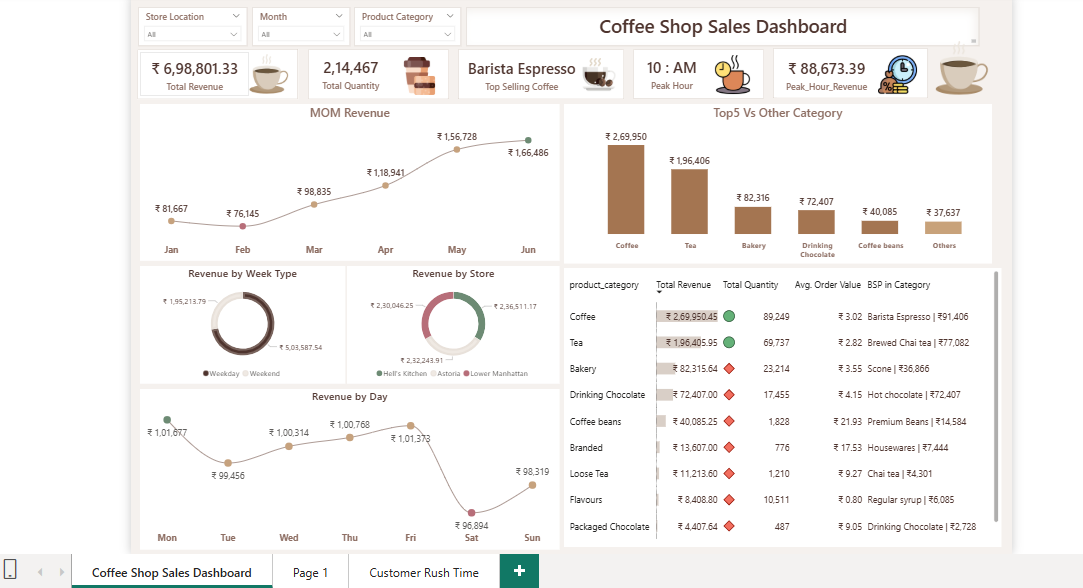

Layout of this report page (visuals, bound fields, positions):
{"tool":"powerbi","page":{"name":"Coffee Shop Sales Dashboard","canvas":[1580,1000],"ordinal":0},"visuals":[{"type":"shape","box":[585.9,94.9,297.4,90],"z":4000},{"type":"shape","box":[899.9,94.9,234.3,89.7],"z":5000},{"type":"shape","box":[11.6,94.5,288.6,90],"z":6000},{"type":"card","fields":{"Values":["Measure_Table.Total Revenue"]},"box":[16,99.9,196.1,80],"z":7000},{"type":"shape","box":[316.4,94.5,252.3,90],"z":8000},{"type":"image","box":[212.1,103.3,71.4,71.4],"z":9000},{"type":"card","fields":{"Values":["Measure_Table.Total Quantity"]},"box":[318.4,96.6,149.5,84.7],"z":10000},{"type":"image","box":[481.2,109.9,69.8,68.1],"z":11000},{"type":"card","fields":{"Values":["Measure_Table.Top Selling Coffee"]},"box":[590.9,99.9,217.7,81.4],"z":12000},{"type":"image","box":[808.5,111.4,59.8,59.8],"z":13000},{"type":"card","fields":{"Values":["Measure_Table.Peak Hour"]},"box":[909.9,98.3,118,81.4],"z":14000},{"type":"image","box":[1042.8,105.4,69.8,69.8],"z":15000},{"type":"shape","box":[1150,94,278,90],"z":16000},{"type":"card","fields":{"Values":["Measure_Table.Peak_Hour_Revenue"]},"box":[1157.4,98.3,177.8,83],"z":17000},{"type":"image","box":[1338.5,104.9,69.8,69.8],"z":18000},{"type":"columnChart","title":"Top5 Vs Other Category","fields":{"Category":["dim_Product_Category.Top5_Vs_Others"],"Y":["Measure_Table.Total Revenue"]},"box":[776,194,767,286],"z":20000},{"type":"lineChart","title":"MOM Revenue","fields":{"Category":["dim_Date.Month Name"],"Y":["Measure_Table.Total Revenue"]},"box":[16,194,752,281.4],"z":21000},{"type":"pieChart","title":"Revenue by Week Type","fields":{"Category":["dim_Date.Weektype"],"Y":["Measure_Table.Total Revenue"]},"box":[16,483,368,211],"z":22000},{"type":"lineChart","title":"Revenue by Day","fields":{"Y":["Measure_Table.Total Revenue"],"Category":["dim_Date.Day Name"]},"box":[16,704,752,288],"z":23000},{"type":"slicer","fields":{"Values":["dim_Store_Location.@Store Name"]},"box":[12.9,20.3,195.7,70],"z":24000},{"type":"pieChart","title":"Revenue by Store","fields":{"Category":["dim_Store_Location.@Store Name"],"Y":["Measure_Table.Total Revenue"]},"box":[387.1,483,381.4,211],"z":25000},{"type":"pivotTable","fields":{"Rows":["dim_Product_Category.product_category"],"Values":["Measure_Table.Total Revenue","Measure_Table.Total Quantity","Measure_Table.Avg. Order Value","Measure_Table.Best Selling Product in Category"]},"box":[776,487,784,500],"z":27000},{"type":"textbox","title":"Coffee Shop Sales Dashboard","box":[600,19.8,920,70],"z":28000},{"type":"image","box":[1440,80,96,96],"z":29000},{"type":"slicer","fields":{"Values":["dim_Date.Month Name"]},"box":[216,20,176,70],"z":30000},{"type":"slicer","fields":{"Values":["dim_Product_Category.product_category"]},"box":[400,20,192,70],"z":31000}]}

Visuals, with their boxes on the page's 1580x1000 design canvas (x1, y1, x2, y2). These are canvas units, not pixel positions in the 1083x588 screenshot, which may show the page scaled, cropped or inside an application window:
shape: {"left": 586, "top": 95, "right": 883, "bottom": 185}
shape: {"left": 900, "top": 95, "right": 1134, "bottom": 185}
shape: {"left": 12, "top": 94, "right": 300, "bottom": 184}
card - Measure_Table.Total Revenue: {"left": 16, "top": 100, "right": 212, "bottom": 180}
shape: {"left": 316, "top": 94, "right": 569, "bottom": 184}
image: {"left": 212, "top": 103, "right": 284, "bottom": 175}
card - Measure_Table.Total Quantity: {"left": 318, "top": 97, "right": 468, "bottom": 181}
image: {"left": 481, "top": 110, "right": 551, "bottom": 178}
card - Measure_Table.Top Selling Coffee: {"left": 591, "top": 100, "right": 809, "bottom": 181}
image: {"left": 808, "top": 111, "right": 868, "bottom": 171}
card - Measure_Table.Peak Hour: {"left": 910, "top": 98, "right": 1028, "bottom": 180}
image: {"left": 1043, "top": 105, "right": 1113, "bottom": 175}
shape: {"left": 1150, "top": 94, "right": 1428, "bottom": 184}
card - Measure_Table.Peak_Hour_Revenue: {"left": 1157, "top": 98, "right": 1335, "bottom": 181}
image: {"left": 1338, "top": 105, "right": 1408, "bottom": 175}
"Top5 Vs Other Category" columnChart: {"left": 776, "top": 194, "right": 1543, "bottom": 480}
"MOM Revenue" lineChart: {"left": 16, "top": 194, "right": 768, "bottom": 475}
"Revenue by Week Type" pieChart: {"left": 16, "top": 483, "right": 384, "bottom": 694}
"Revenue by Day" lineChart: {"left": 16, "top": 704, "right": 768, "bottom": 992}
slicer - dim_Store_Location.@Store Name: {"left": 13, "top": 20, "right": 209, "bottom": 90}
"Revenue by Store" pieChart: {"left": 387, "top": 483, "right": 768, "bottom": 694}
pivotTable - dim_Product_Category.product_category x Measure_Table.Total Revenue: {"left": 776, "top": 487, "right": 1560, "bottom": 987}
"Coffee Shop Sales Dashboard" textbox: {"left": 600, "top": 20, "right": 1520, "bottom": 90}
image: {"left": 1440, "top": 80, "right": 1536, "bottom": 176}
slicer - dim_Date.Month Name: {"left": 216, "top": 20, "right": 392, "bottom": 90}
slicer - dim_Product_Category.product_category: {"left": 400, "top": 20, "right": 592, "bottom": 90}
